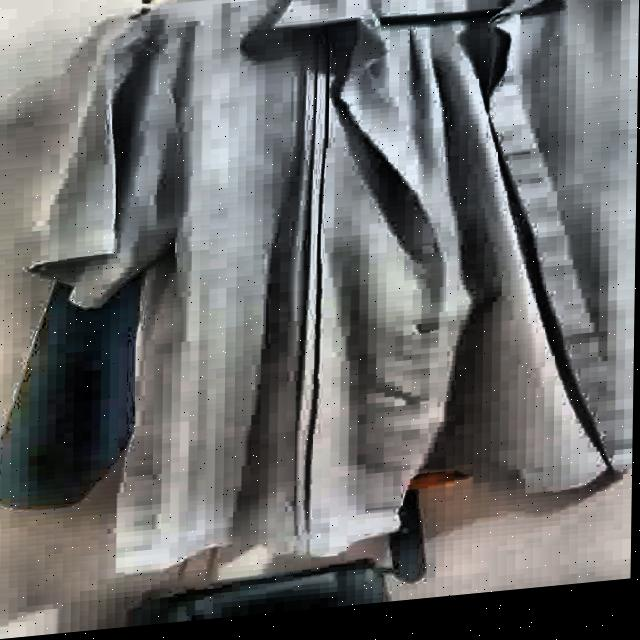clothes: (18, 0, 631, 606)
